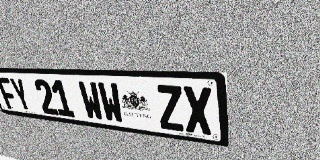1: (48, 80, 75, 117)
2: (33, 79, 59, 115)
F: (0, 77, 20, 110)
W: (97, 82, 125, 124), (77, 81, 105, 121)
X: (182, 86, 213, 135)
Y: (8, 78, 33, 112)
Z: (155, 85, 185, 132)
